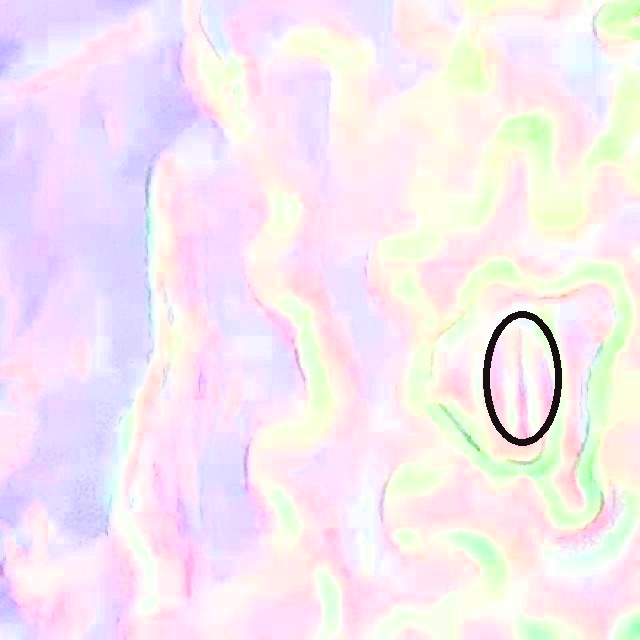open: (481, 309, 563, 447)
